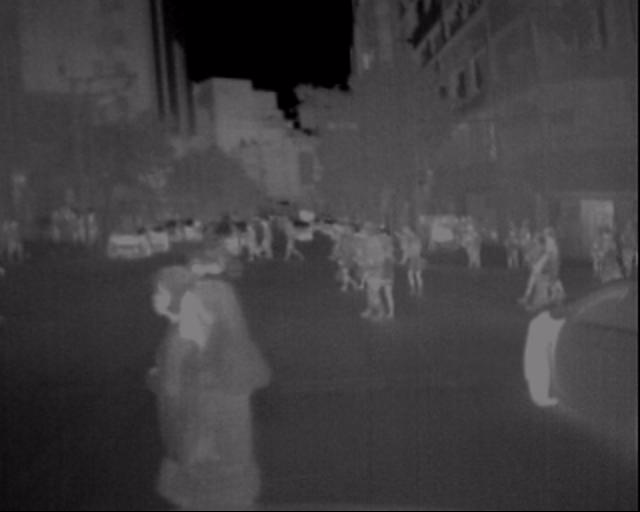person: (139, 278, 263, 512), (117, 267, 218, 512), (435, 217, 532, 277), (344, 220, 394, 325), (232, 209, 306, 275), (198, 209, 253, 282), (391, 224, 435, 297), (583, 220, 615, 310), (327, 218, 361, 299), (530, 230, 560, 304)
